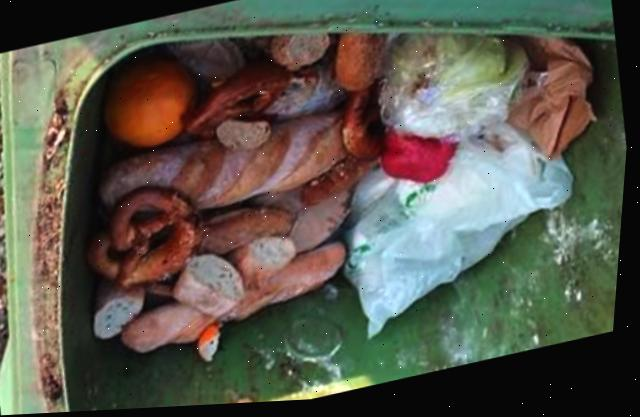Garbage: (90, 35, 598, 363)
Plastic_Bag: (349, 128, 575, 341), (381, 37, 530, 145)
